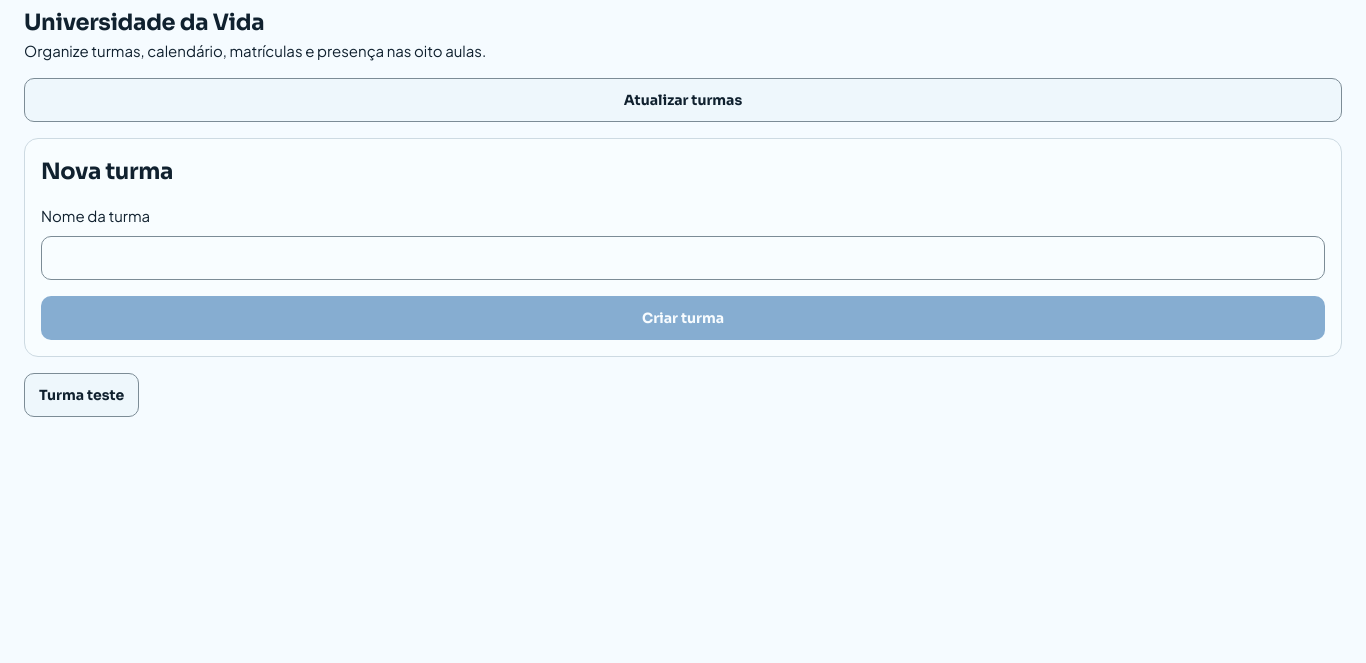
it: correção exige confirmação e envia a versão anterior; consulta mostra auditoria
Click the button "Turma teste": (82,394) [24,372,139,416]
(page scrolled)
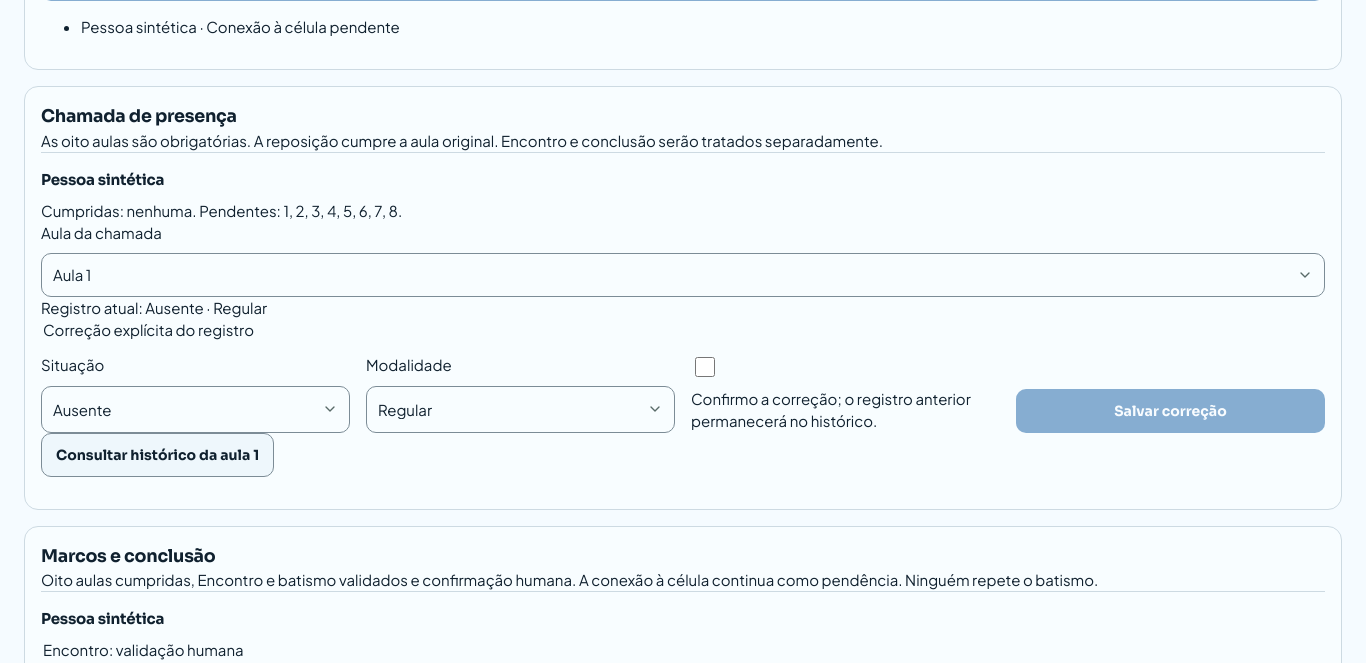
Result: the button "Salvar correção" is disabled at [1016,388,1325,432]
Click the 1st checkbox: (705,366) [695,356,715,376]
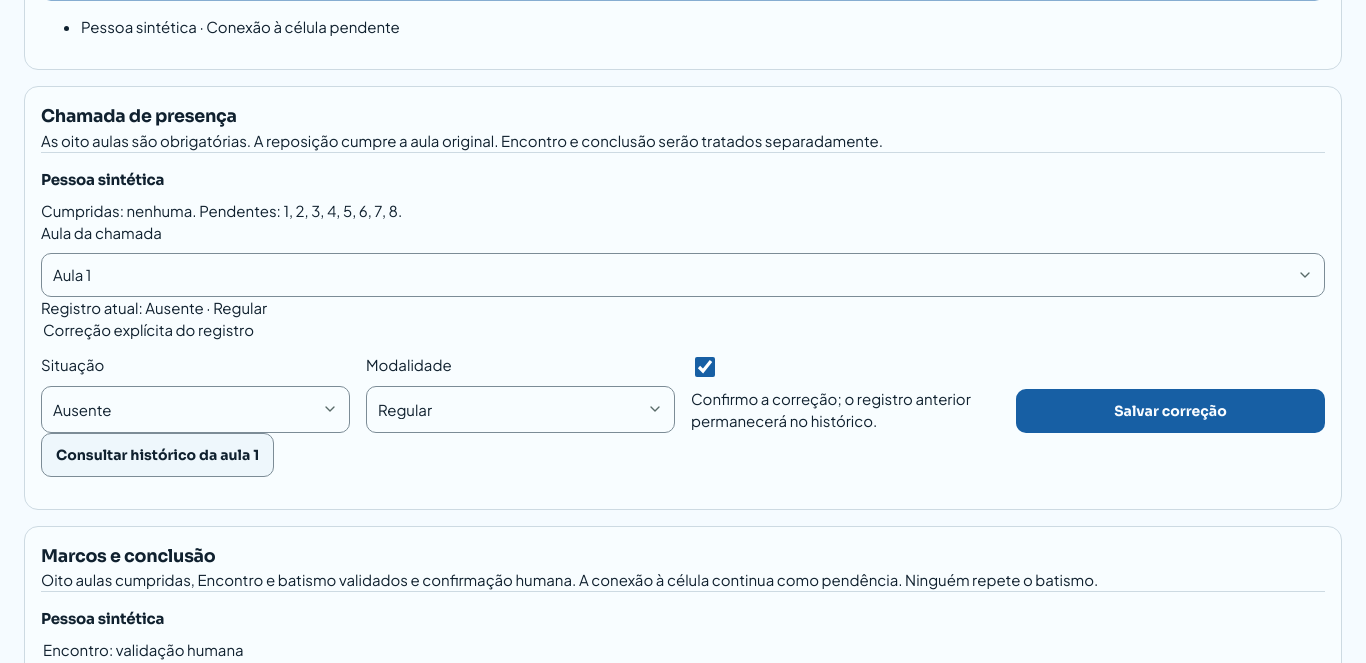
Click the button "Salvar correção": (1170,410) [1016,388,1325,432]
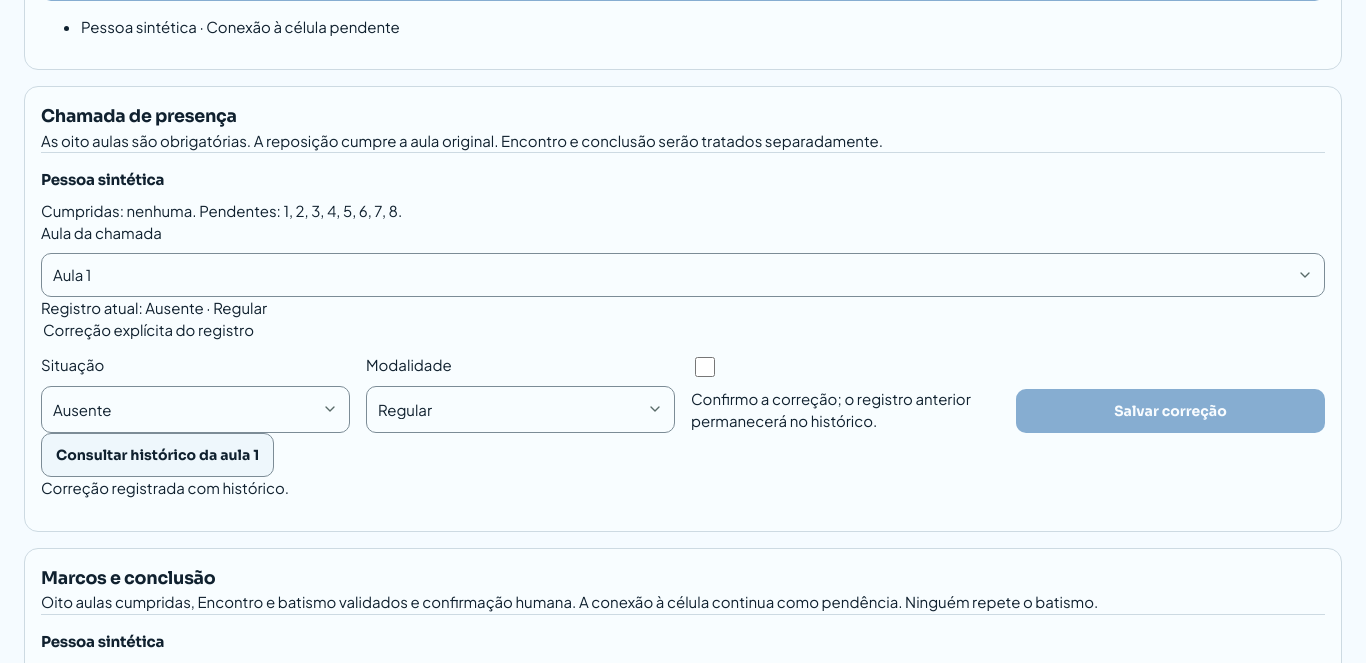
Click the button "Consultar histórico da aula 1": (158,454) [41,432,274,476]
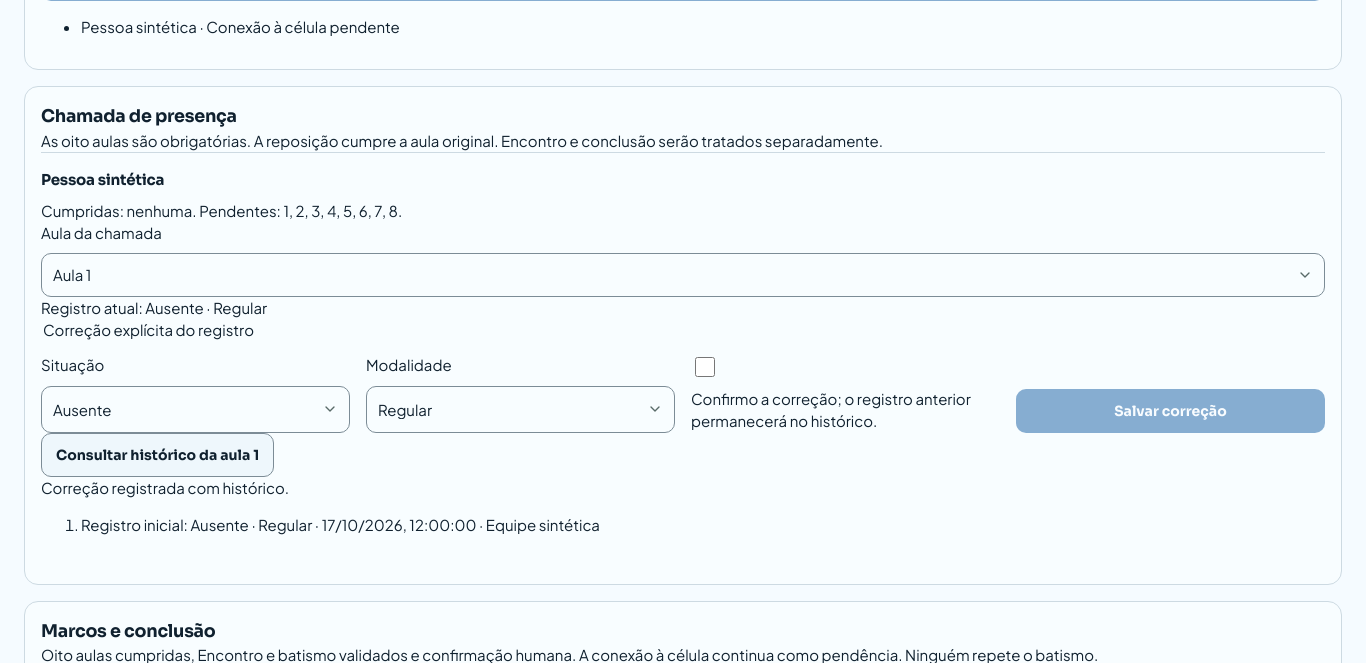
Result: the text "Registro inicial: Ausente" is shown at [81,515,600,534]
Result: the text "Equipe sintética" is shown at [486,515,600,534]
